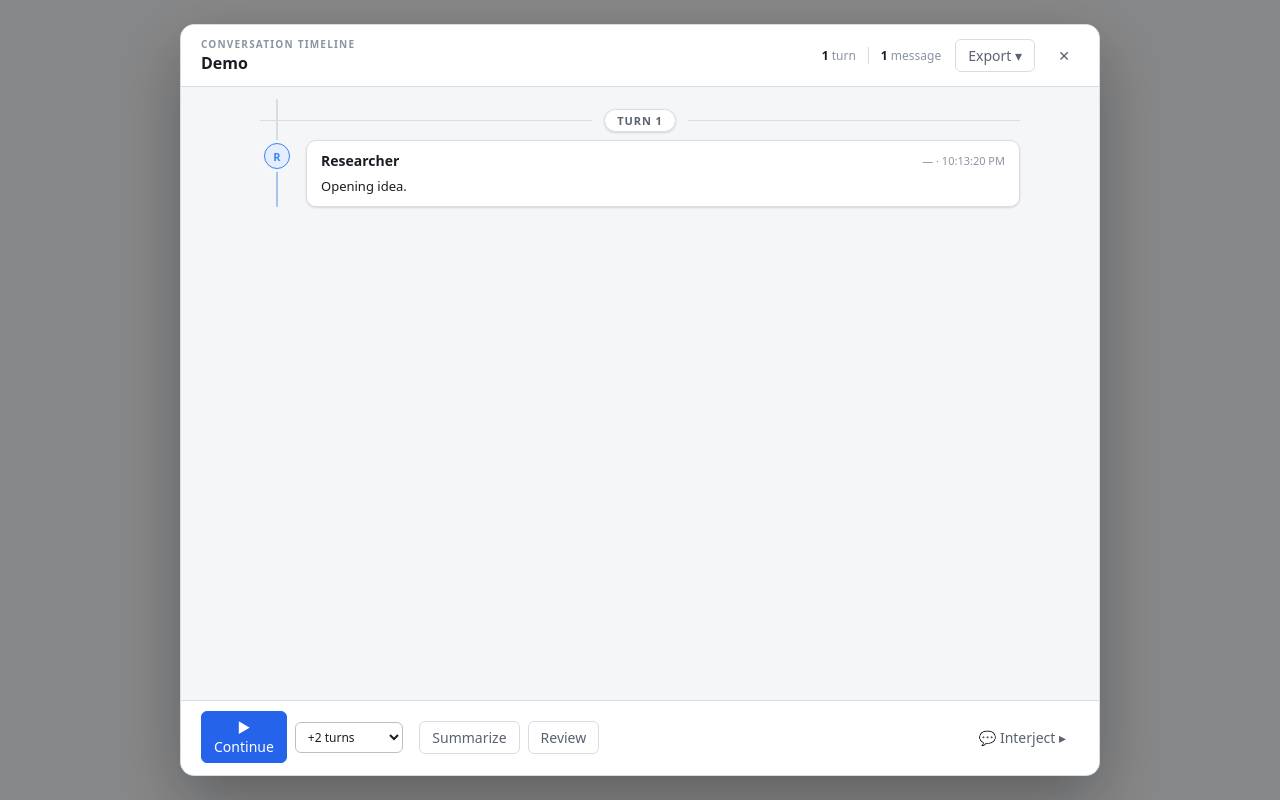
Test case: TimelinePage footer tools › generates and shows a summary via the borrowed agent provider
Click the button "Summarize" at (469, 737), box x1=419 y1=720 x2=520 y2=754
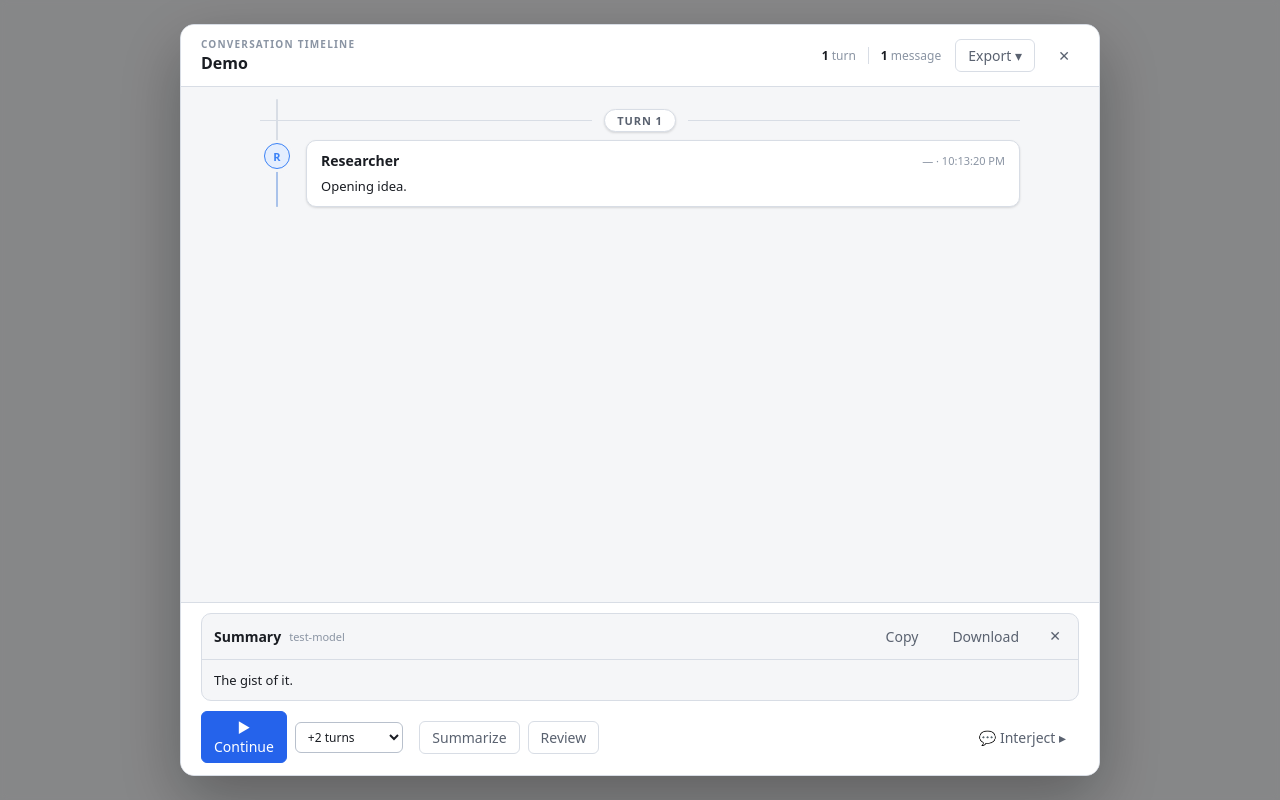
Expected: the text "The gist of it." is shown, x1=214 y1=671 x2=293 y2=689
